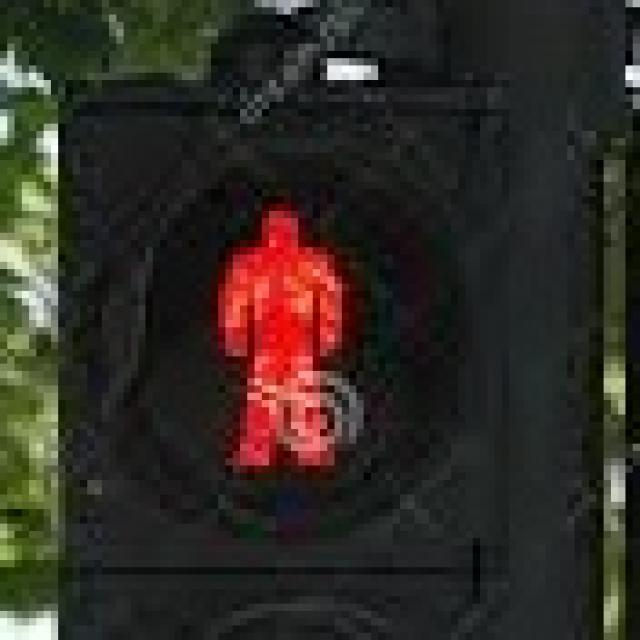red-crossing: (182, 175, 371, 488)
